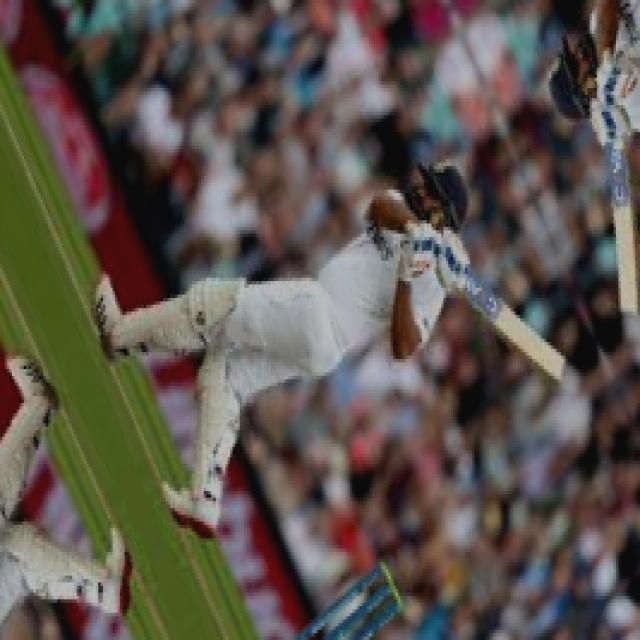toe: (552, 354, 570, 384)
